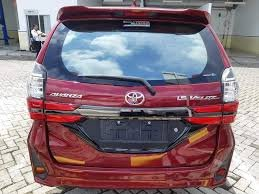mobil: (25, 5, 238, 192)
